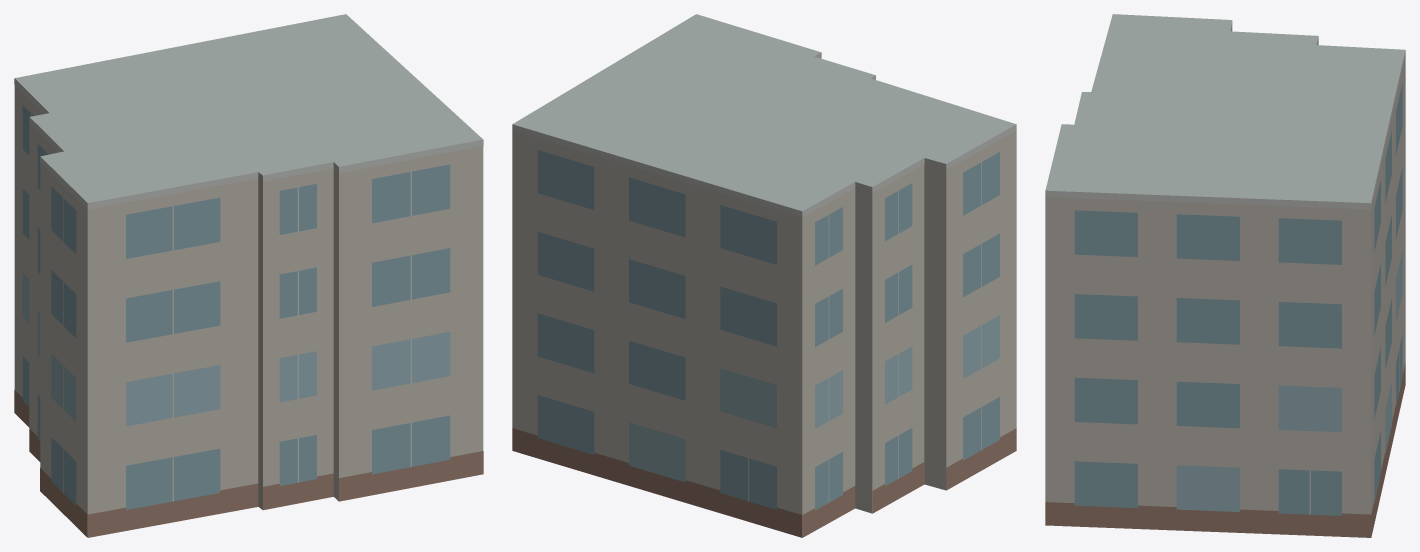
Rendered from survey-upis-32954263.glb.
3 renders of one model, left to right at view 1: azimuth 30°, elevation 25°; view 2: azimuth 150°, elevation 25°; view 3: azimuth 270°, elevation 25°, orthographic. The views are drawn at different scales.
Visible parts, largest first — view 1: survey-upis-32954263.tmp; view 2: survey-upis-32954263.tmp; view 3: survey-upis-32954263.tmp.
Boxes of the visible parts, x1,y1,x2,y2 form: survey-upis-32954263.tmp: (14, 14, 483, 537); survey-upis-32954263.tmp: (512, 14, 1016, 537); survey-upis-32954263.tmp: (1045, 14, 1405, 537).
Size of the model in its own units: 15.71 by 12.95 by 12.64.
